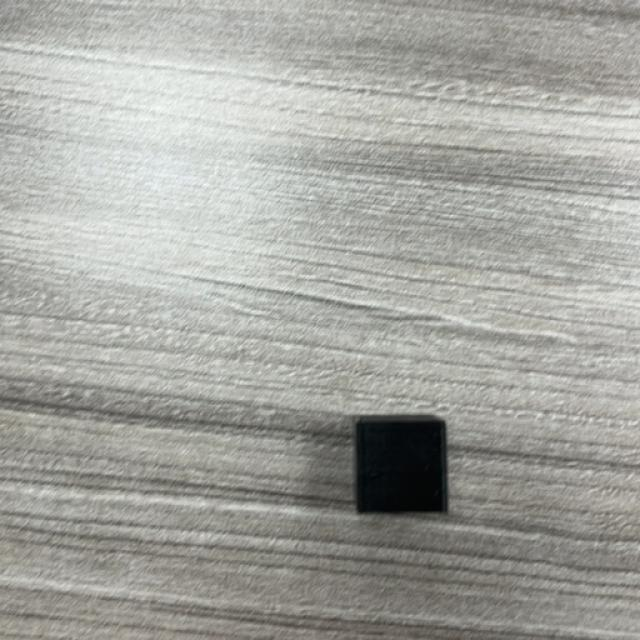Negro: (354, 416, 449, 518)
